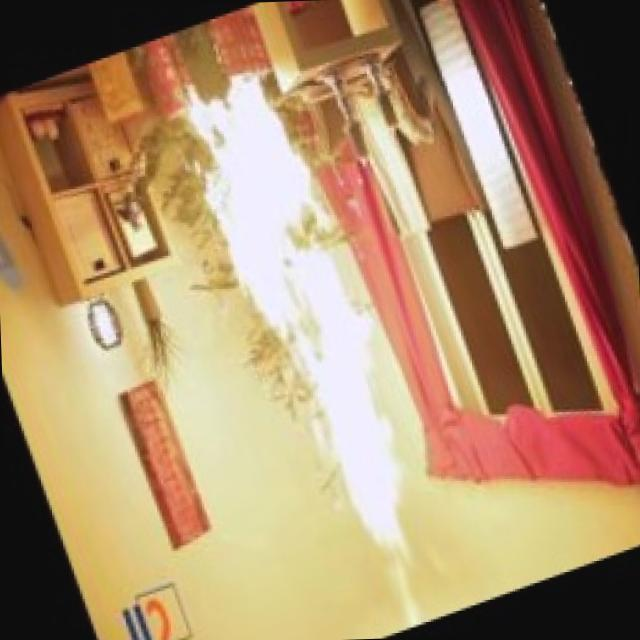fire: (116, 31, 507, 640)
